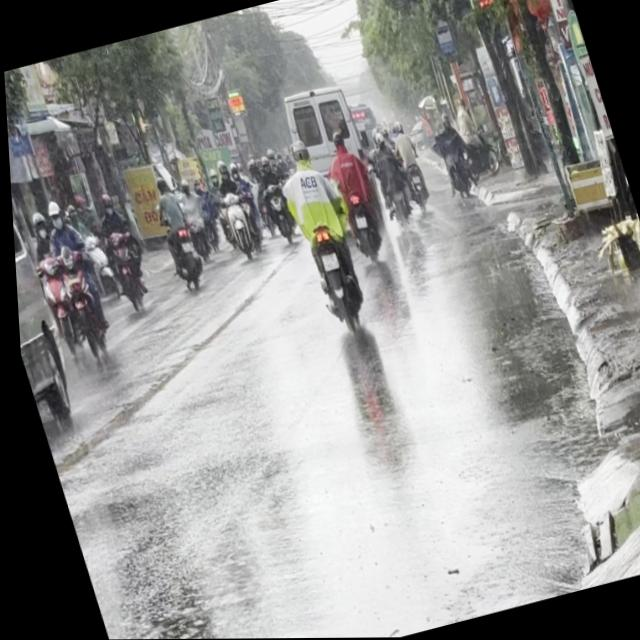helmet: (23, 207, 45, 238), (39, 197, 61, 228)
licenseplate: (265, 132, 370, 339)
nohelmet: (315, 251, 334, 270)
